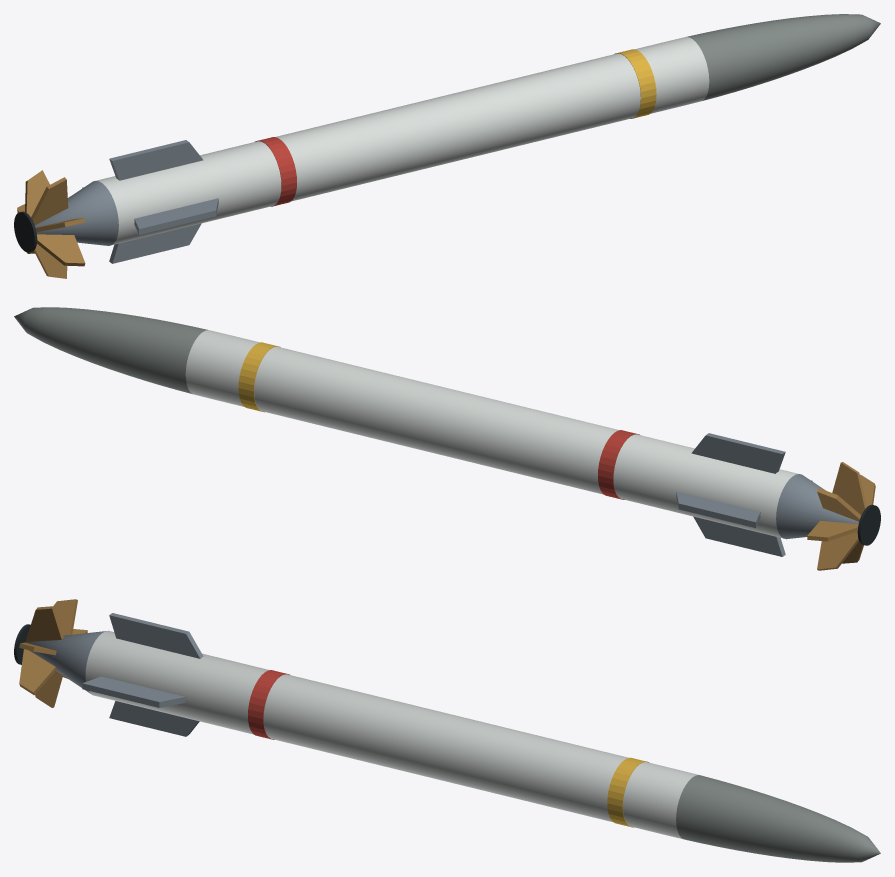
3 views of the same model, one above another, from view 1: azimuth 30°, elevation 25°; view 2: azimuth 150°, elevation 25°; view 3: azimuth 330°, elevation 25° (orthographic).
Parts seen in each view (by area): view 1: cw90_test71; view 2: cw90_test71; view 3: cw90_test71.
Part boxes in pixels (x1=…): cw90_test71: x1=14, y1=14, x2=880, y2=278; cw90_test71: x1=14, y1=307, x2=880, y2=570; cw90_test71: x1=14, y1=599, x2=880, y2=862.
Size of the model in its own units: 10 by 1.15 by 1.15.
